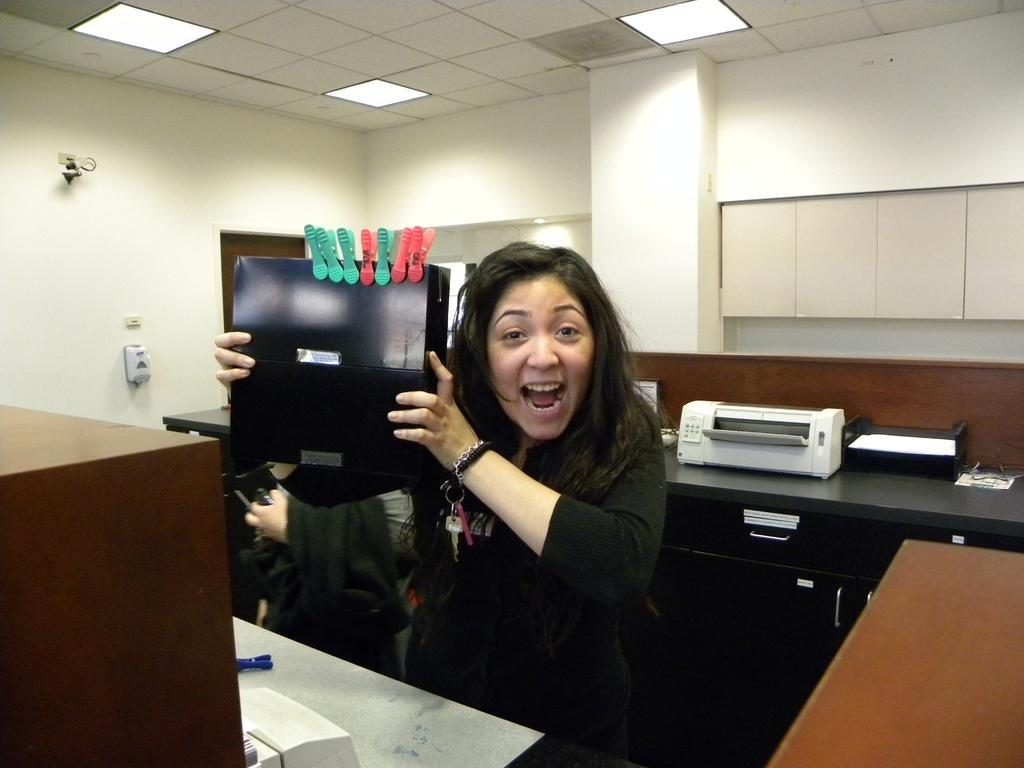Printer: (674, 398, 845, 481)
